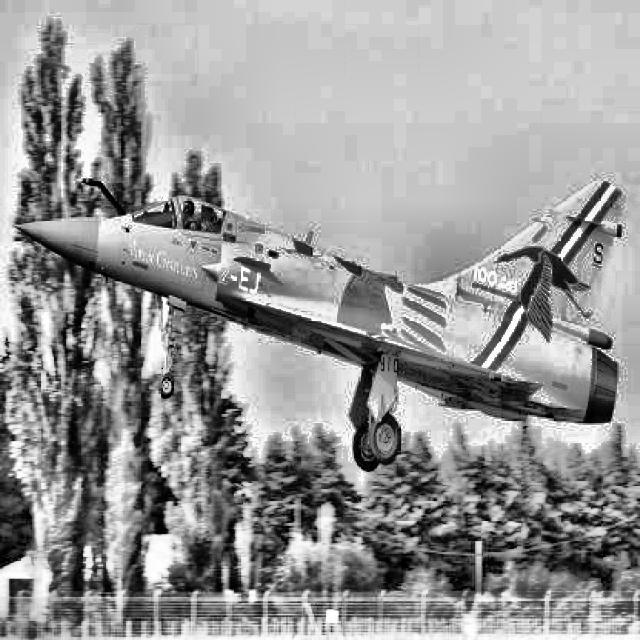Mirage2000: (12, 177, 626, 472)
